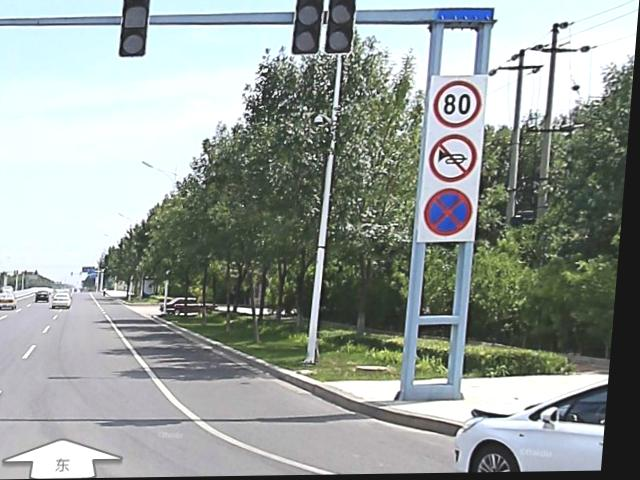limit80: (433, 82, 488, 133)
